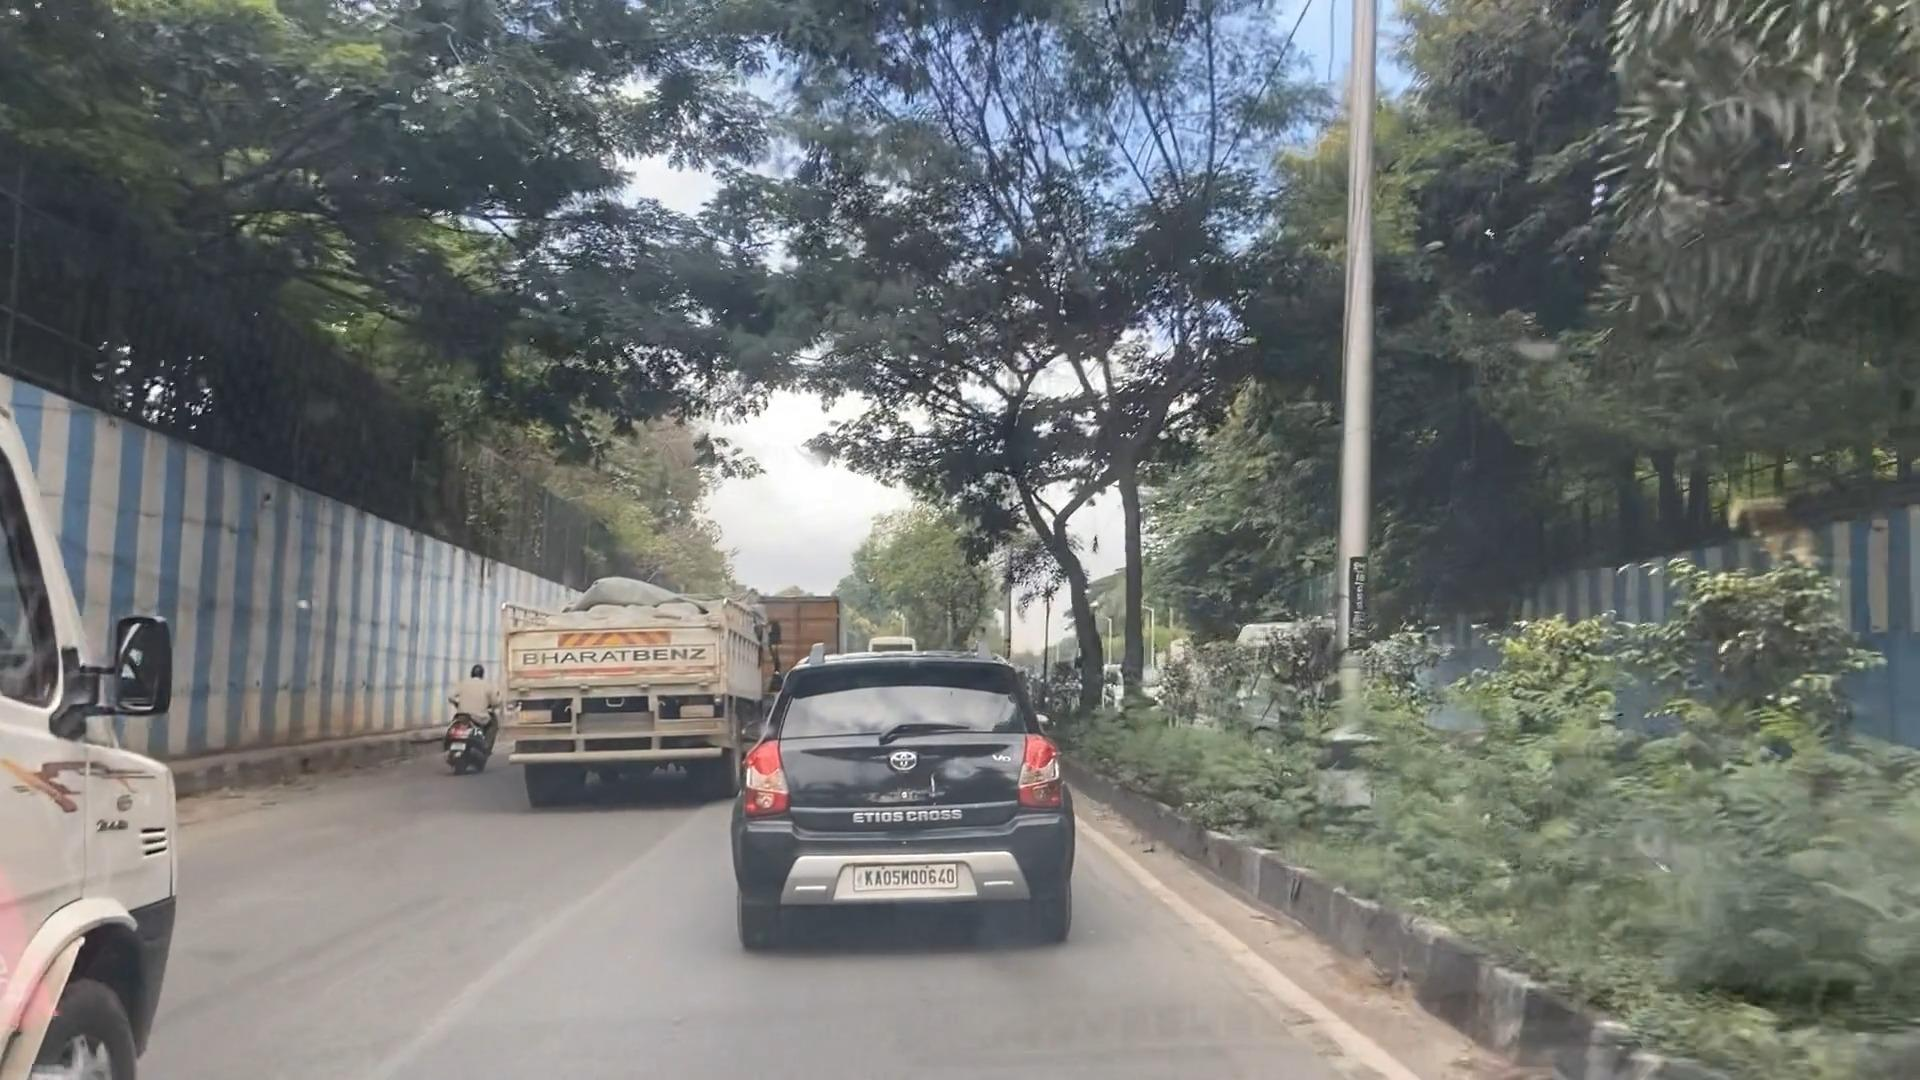HMV: (0, 355, 218, 1080), (502, 535, 773, 832)
LMV: (707, 608, 1130, 992), (443, 650, 514, 791)
